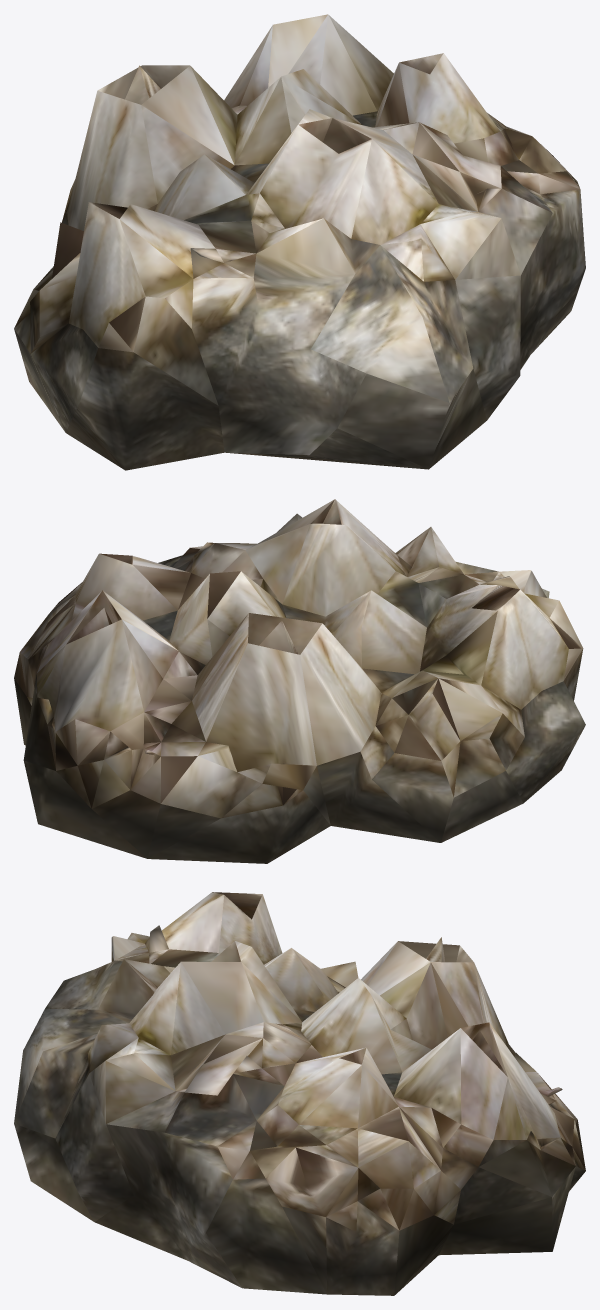
Rendered from barnacle.glb.
The picture shows the model from 3 angles, top to bottom: view 1: azimuth 30°, elevation 25°; view 2: azimuth 150°, elevation 25°; view 3: azimuth 270°, elevation 25°; orthographic projection. The views are drawn at different scales.
Visible parts, largest first — view 1: tripo_node_674412bc-47e3-4075-97f8-6c215ee8a266; view 2: tripo_node_674412bc-47e3-4075-97f8-6c215ee8a266; view 3: tripo_node_674412bc-47e3-4075-97f8-6c215ee8a266.
Boxes of the visible parts, x1=… form: tripo_node_674412bc-47e3-4075-97f8-6c215ee8a266: x1=14, y1=14, x2=585, y2=470; tripo_node_674412bc-47e3-4075-97f8-6c215ee8a266: x1=14, y1=499, x2=585, y2=863; tripo_node_674412bc-47e3-4075-97f8-6c215ee8a266: x1=14, y1=892, x2=585, y2=1295.
Bounding box in the file's own units: 0.9453 × 0.437 × 0.9413.
1 material, 1 textured.
